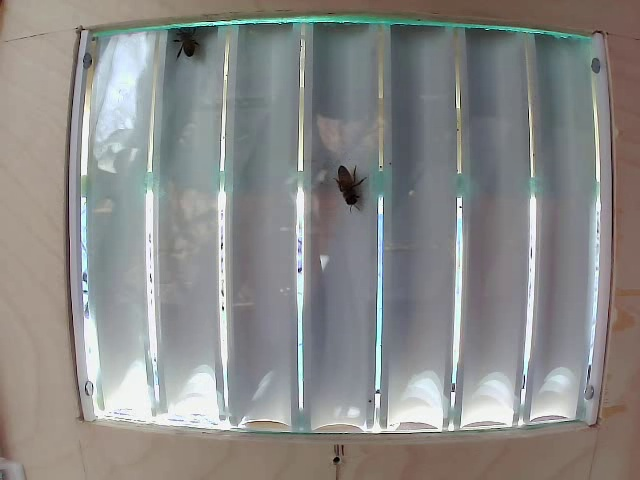bee: (322, 162, 365, 215)
